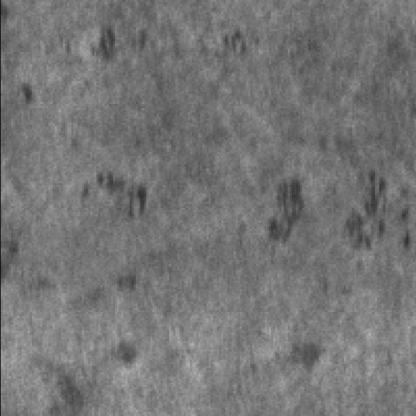rolled-in_scale: (83, 25, 250, 75), (58, 164, 162, 229), (339, 175, 410, 264), (254, 177, 314, 253)
